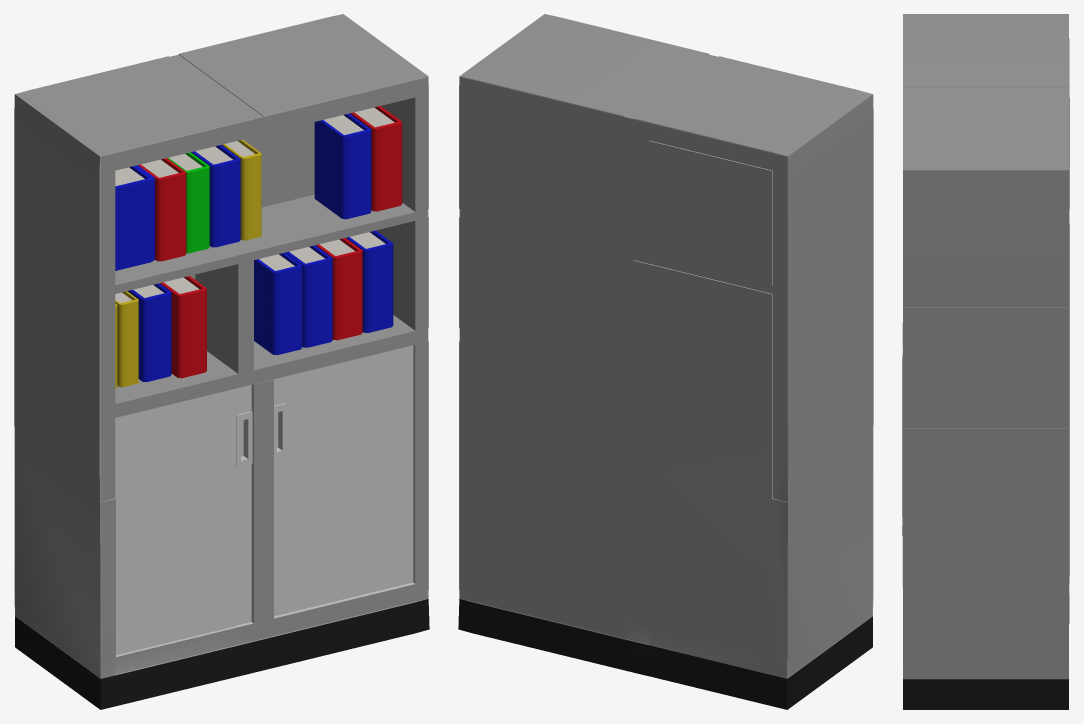
Rendered from tana3.fbx.
3 views of the same model, side by side, from view 1: azimuth 30°, elevation 25°; view 2: azimuth 150°, elevation 25°; view 3: azimuth 270°, elevation 25° (orthographic). The views are drawn at different scales.
Parts seen in each view (by area): view 1: obj1; view 2: obj1; view 3: obj1.
Boxes of the visible parts, left/top/right/bottom form: obj1: left=14, top=14, right=429, bottom=709; obj1: left=458, top=14, right=873, bottom=709; obj1: left=902, top=14, right=1069, bottom=709.
Bounding box in the file's own units: 201 × 323 × 91.09.
